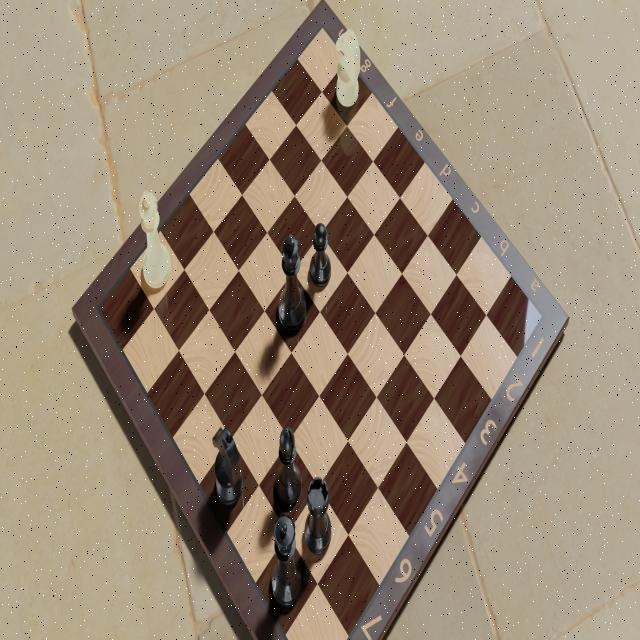black-bishop: (271, 419, 305, 517)
black-king: (275, 232, 309, 335)
black-knight: (206, 426, 250, 514)
black-pawn: (307, 222, 332, 294)
black-queen: (266, 508, 302, 616)
black-rook: (300, 472, 336, 559)
white-king: (136, 187, 172, 288)
white-knight: (335, 26, 361, 113)
